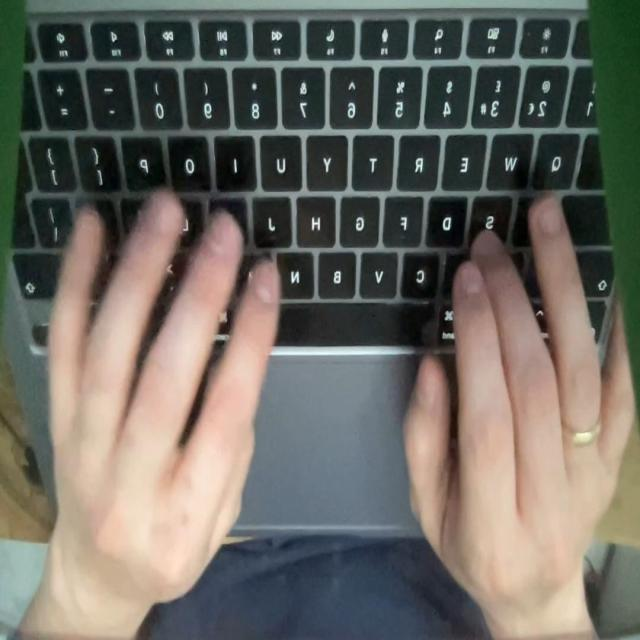keyboard-with-hands: (4, 0, 619, 538)
